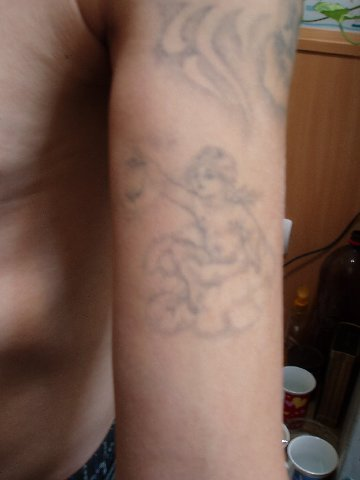tatu1_angel: (116, 131, 280, 338)
